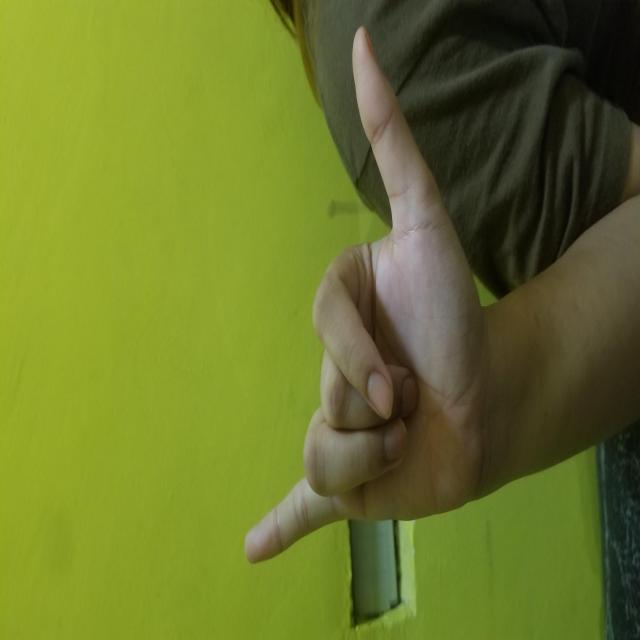Y: (74, 244, 613, 477)
